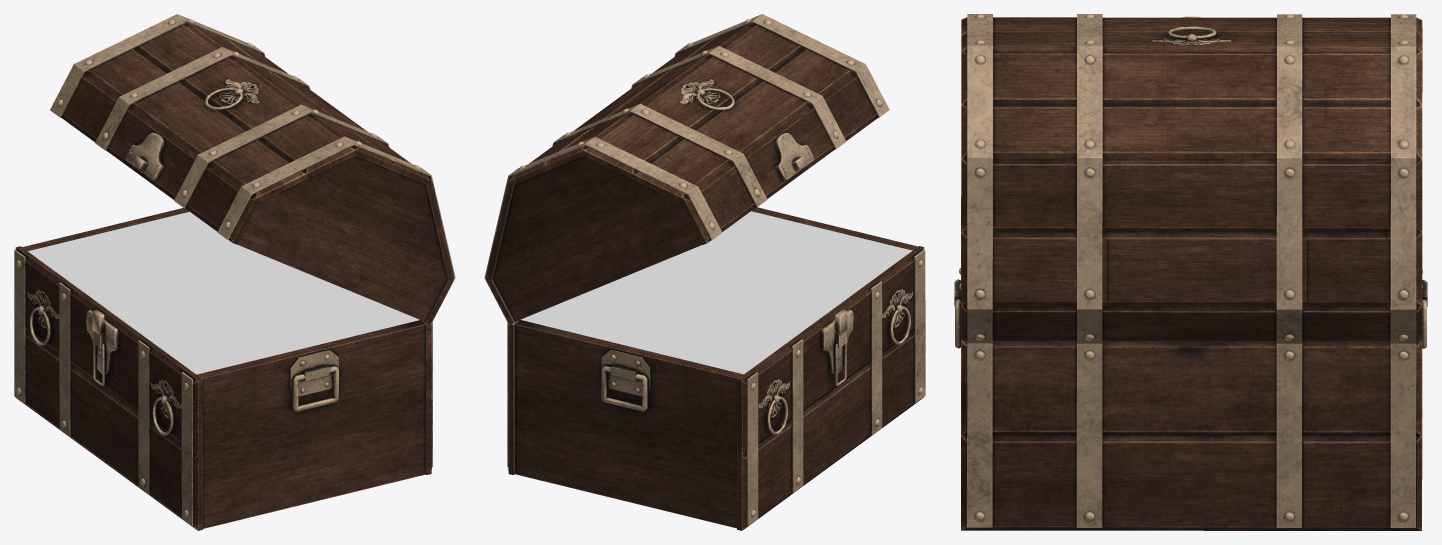
The model's file is treasure-chest-medium.glb.
The picture shows the model from 3 angles, left to right: view 1: azimuth 30°, elevation 25°; view 2: azimuth 150°, elevation 25°; view 3: azimuth 270°, elevation 25°; orthographic projection. The views are drawn at different scales.
Visible parts, largest first — view 1: chest_body, chest_inside; view 2: chest_body, chest_inside; view 3: chest_body.
Part boxes in pixels (bbox=[...]): chest_body: bbox=[14, 14, 455, 530]; chest_inside: bbox=[28, 212, 419, 374]; chest_body: bbox=[484, 14, 925, 530]; chest_inside: bbox=[521, 211, 911, 374]; chest_body: bbox=[954, 14, 1427, 530].
Bounding box in the file's own units: 56.48 × 69.13 × 67.57.
Materials: 2 (1 with a texture image).
